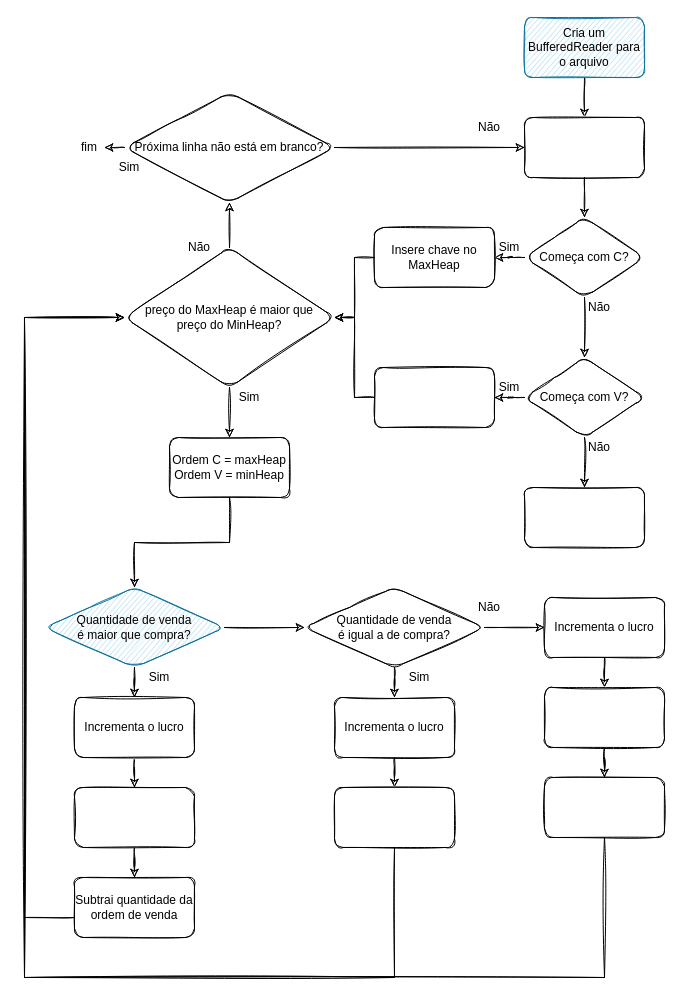
Some shapes in this 682 by 1003 pixel diagram are drawn without their labels. The shapes that lost their labels are listed below. From the top down, each one's centre as x and y in pixels, then its label:
the point at 584,147: Lê linha do arquivo
the point at 434,397: Insere chave no MinHeap
the point at 584,517: Lança erro por formato de arquivo inválido
the point at 604,717: Remove ordem de venda do heap
the point at 134,817: Remove ordem de compra do heap
the point at 394,817: Remove ambas as ordens do heap
the point at 604,807: Subtrai quantidade da ordem de compra
